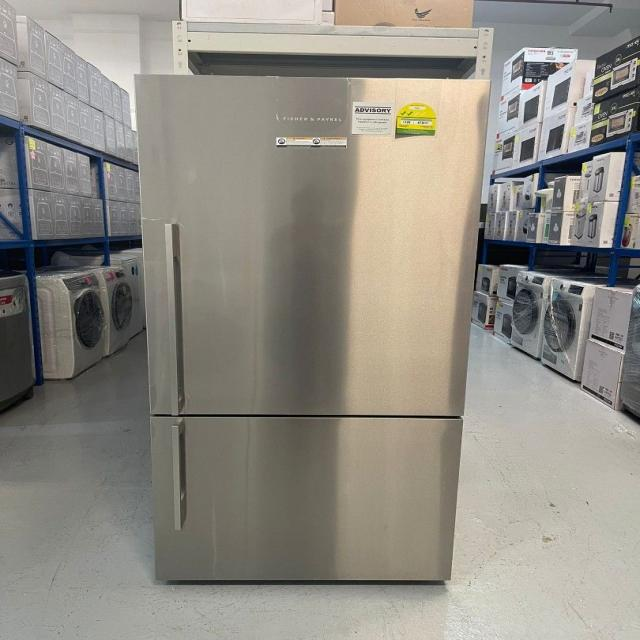refrigerator: (134, 71, 483, 582)
